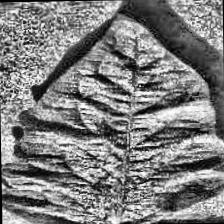spider mites: (0, 11, 224, 224)
